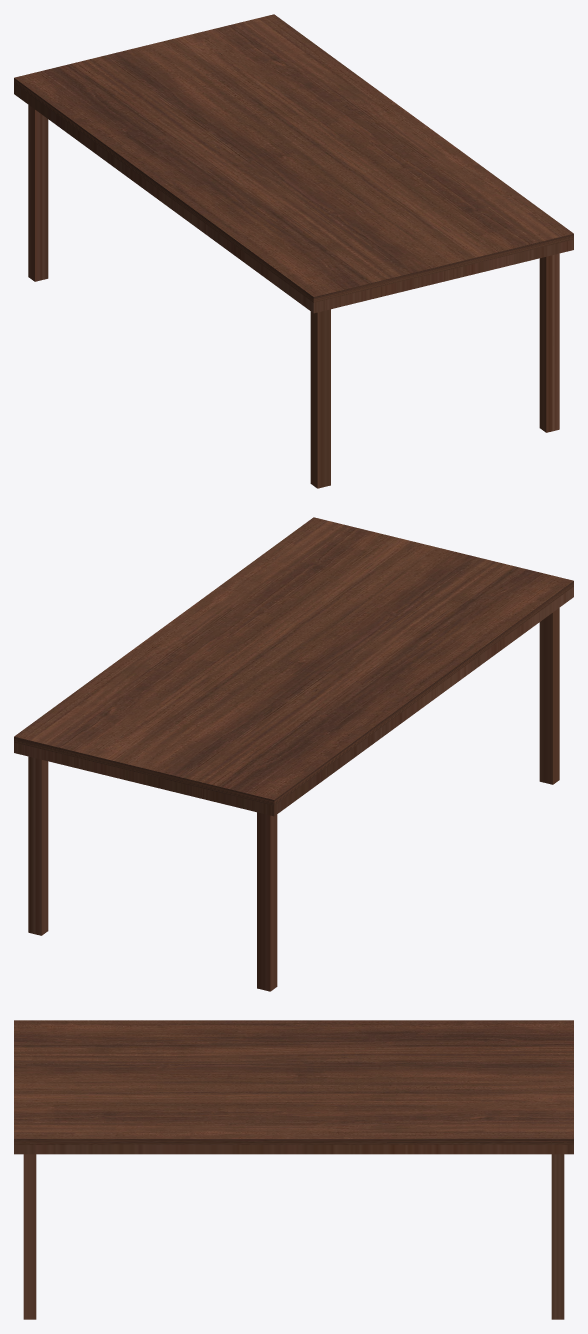
The model's file is table.glb.
3 renders of one model, top to bottom at view 1: azimuth 30°, elevation 25°; view 2: azimuth 150°, elevation 25°; view 3: azimuth 270°, elevation 25°, orthographic. The views are drawn at different scales.
Visible parts, largest first — view 1: desk-col; view 2: desk-col; view 3: desk-col.
Boxes of the visible parts, <box> form: desk-col: <box>14,14,573,488</box>; desk-col: <box>14,517,573,991</box>; desk-col: <box>14,1020,573,1319</box>.
Bounding box in the file's own units: 1 × 0.7274 × 2.
Materials: 1 (1 with a texture image).
